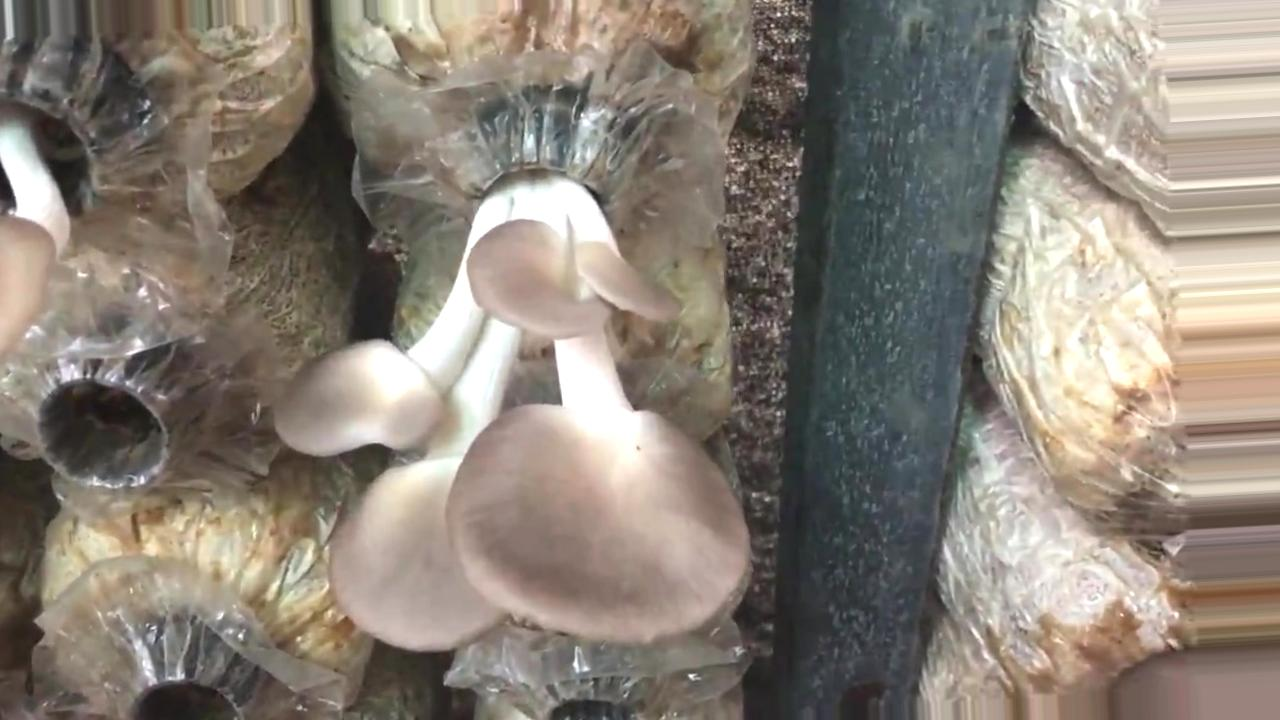nam: (282, 117, 742, 649), (1, 39, 131, 349)
